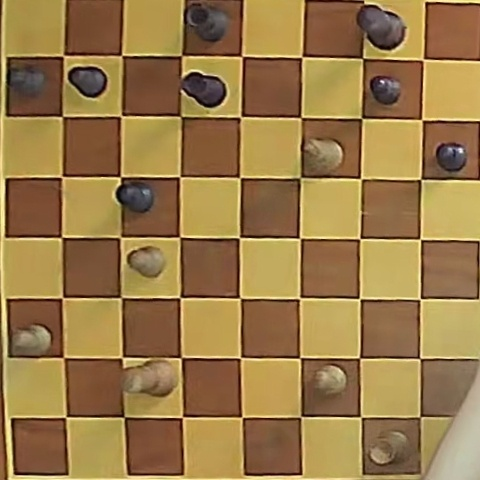black-king: (357, 5, 406, 50)
black-pawn: (68, 66, 107, 98), (116, 181, 154, 213), (8, 65, 46, 96), (370, 76, 402, 105), (436, 143, 466, 172)
black-rook: (185, 3, 228, 42), (182, 72, 226, 108)
white-bishop: (304, 138, 344, 174)
white-king: (125, 360, 177, 396)
white-pawn: (11, 325, 52, 356), (127, 246, 166, 278), (313, 364, 348, 396)
white-rook: (369, 430, 409, 466)
